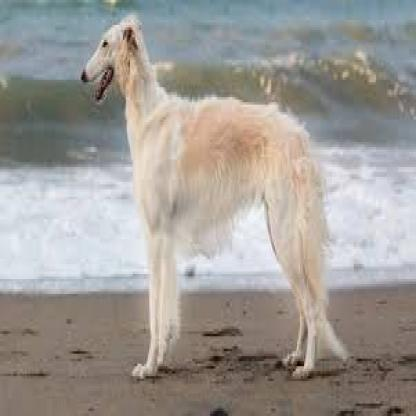Borzoi: (79, 12, 352, 390)
